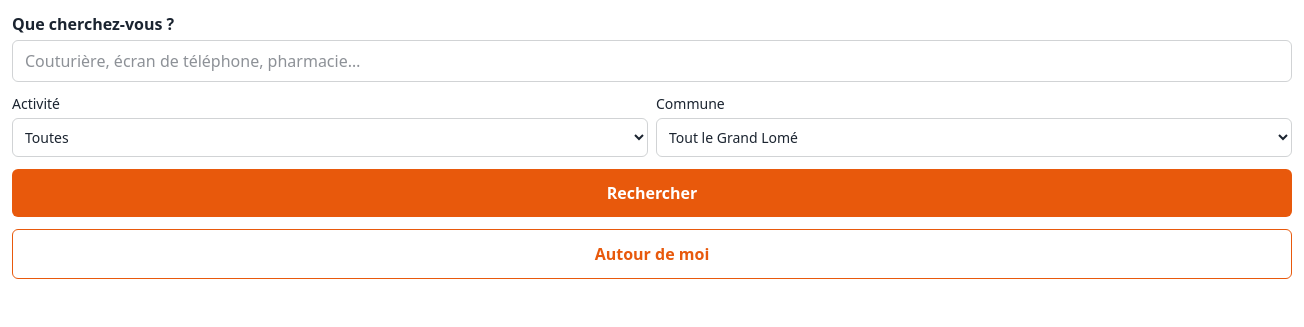
Test case: SearchForm › says why the position is missing
This screenshot has width=1304, height=327.
Click the button "Autour de moi": (652, 254) 12,229 -> 1292,279
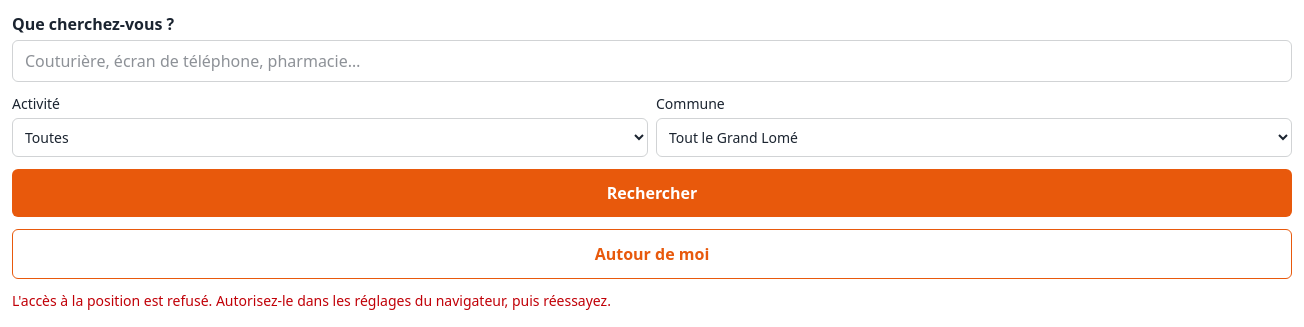
Expected: the message shows "refusé", 12,291 -> 611,310
